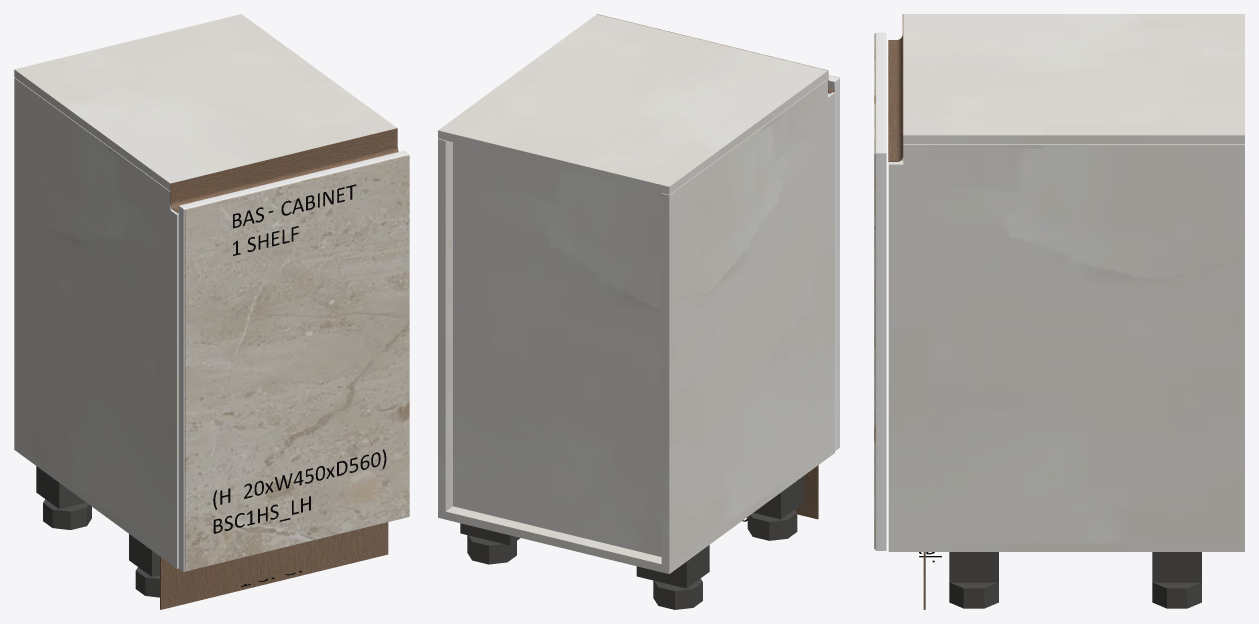
3 views of the same model, side by side, from view 1: azimuth 30°, elevation 25°; view 2: azimuth 150°, elevation 25°; view 3: azimuth 270°, elevation 25° (orthographic). The views are drawn at different scales.
Size of what is drawn, in the model's own units: 0.45 by 0.82 by 0.5899.
6 materials, 3 textured.
